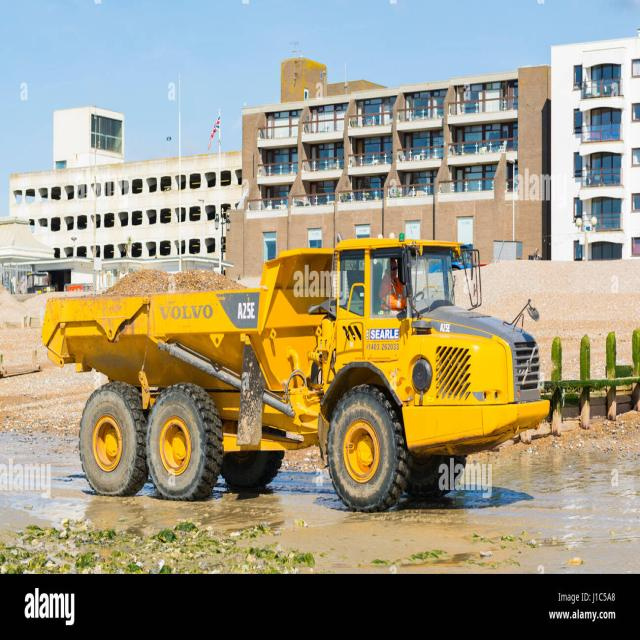dump_truck: (31, 226, 552, 512)
